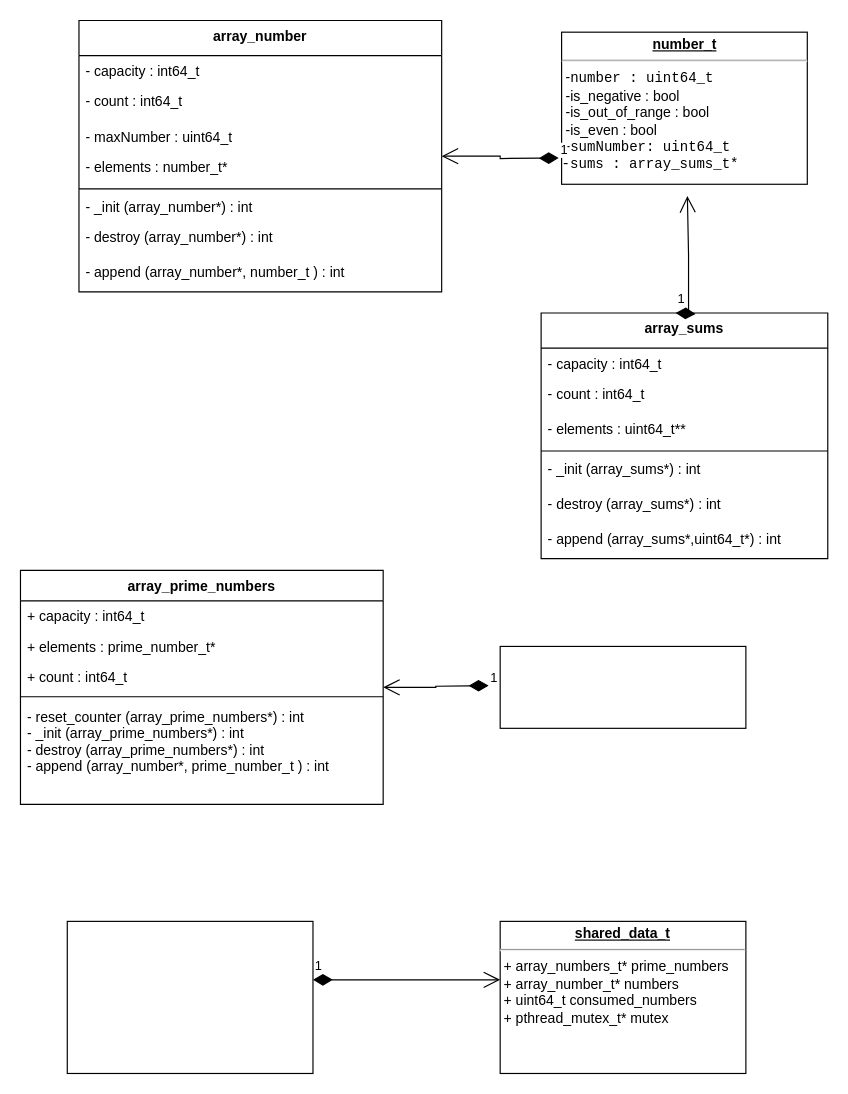
Image size: 848x1094. Some labels were removed from this diagram. Each missing label, with the centre of its shape:
"prime_number_t + number : uint64_t + timesRepeated : uint64_t" belongs at (622,686).
"thread_data_t + uint64_t thread_number + shared_data_t* shared_data" belongs at (189,996).
